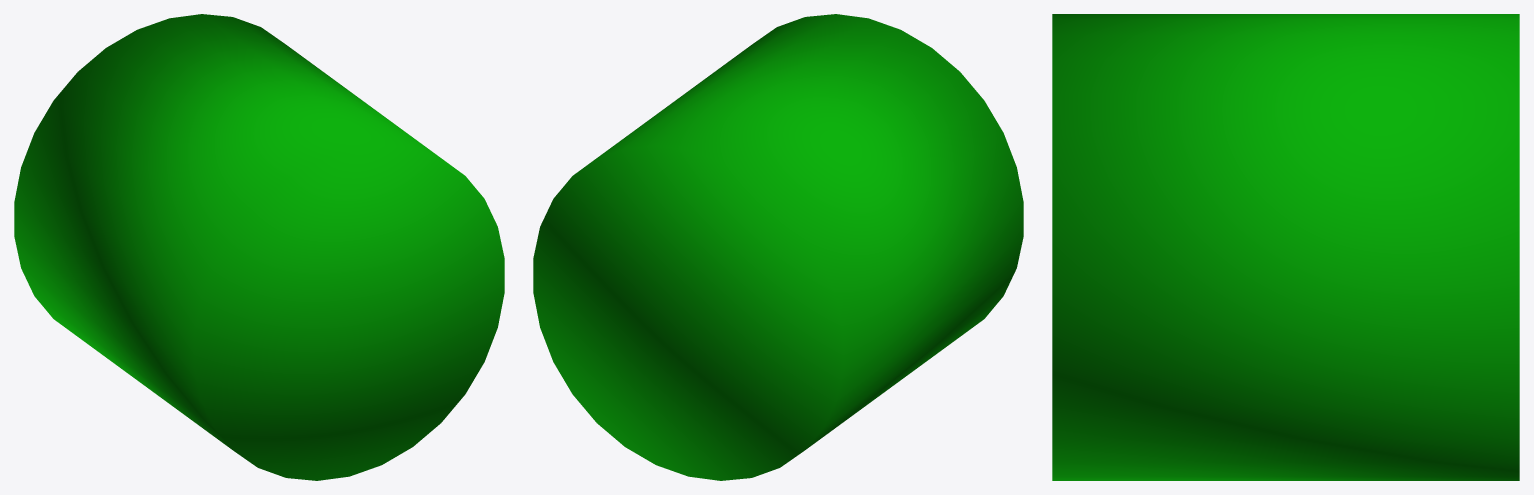
File: cylinder_green.obj
3 views of the same model, side by side, from view 1: azimuth 30°, elevation 25°; view 2: azimuth 150°, elevation 25°; view 3: azimuth 270°, elevation 25° (orthographic). The views are drawn at different scales.
Bounding box in the file's own units: 0.9945 × 1 × 1.
